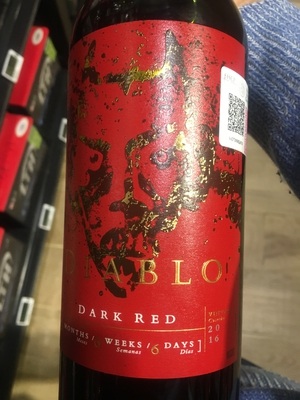diablo dark red: (65, 8, 259, 400)
